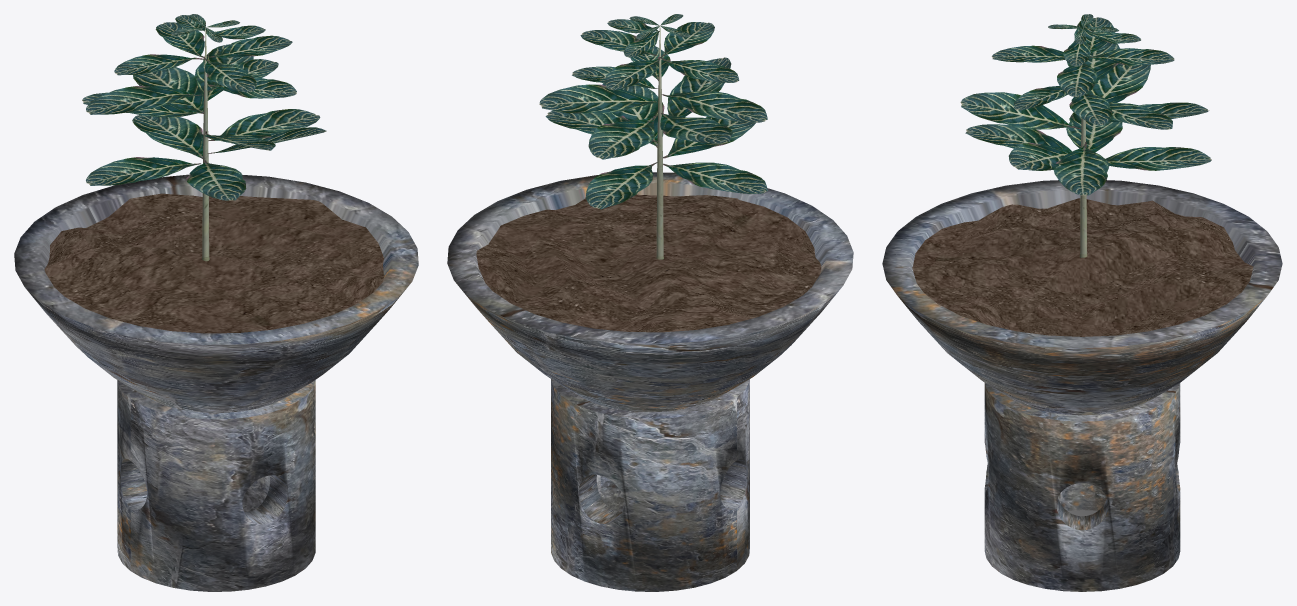
The model's file is kay vir Zibraplants.fbx.
3 views of the same model, side by side, from view 1: azimuth 30°, elevation 25°; view 2: azimuth 150°, elevation 25°; view 3: azimuth 270°, elevation 25° (orthographic).
Visible parts, largest first — view 1: Zibraplants.001; view 2: Zibraplants.001; view 3: Zibraplants.001.
Part boxes in pixels (x1,y1,x2,y2): Zibraplants.001: (14, 14, 418, 591); Zibraplants.001: (447, 14, 853, 591); Zibraplants.001: (882, 14, 1282, 591).
Bounding box in the file's own units: 34.53 × 49.32 × 34.53.
25 materials, 25 textured.
